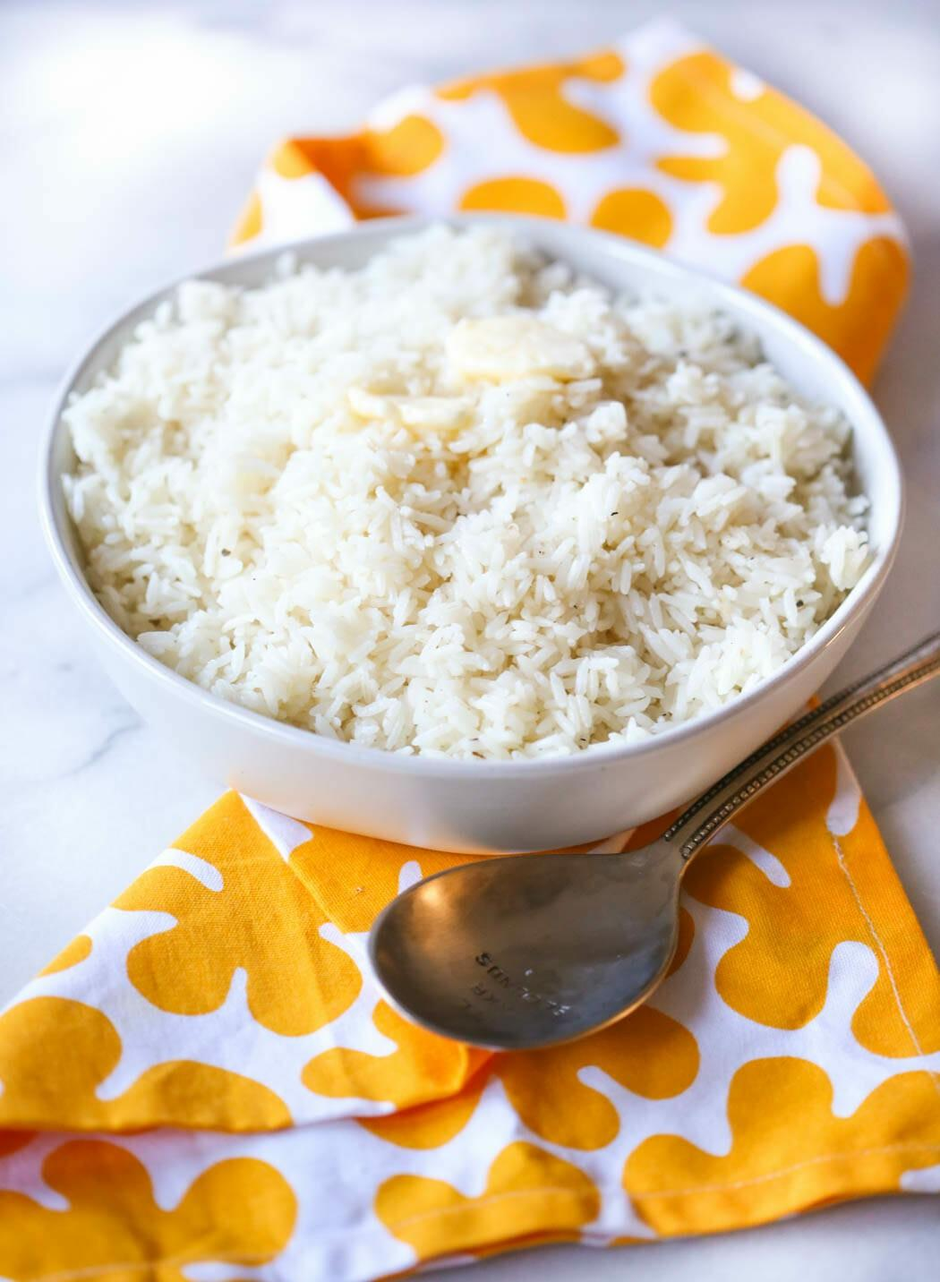WhiteRice: (61, 221, 875, 764)
